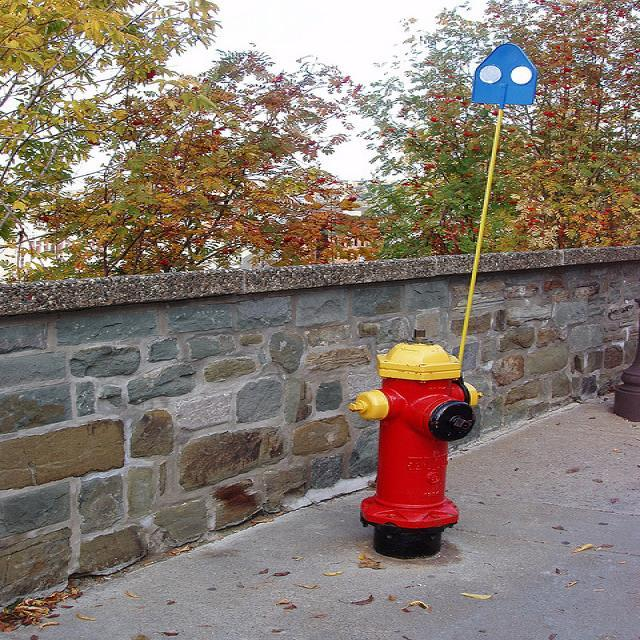fire_hydrant: (332, 328, 480, 556)
